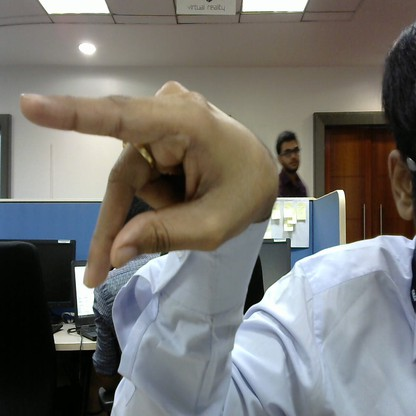p: (11, 67, 283, 291)
